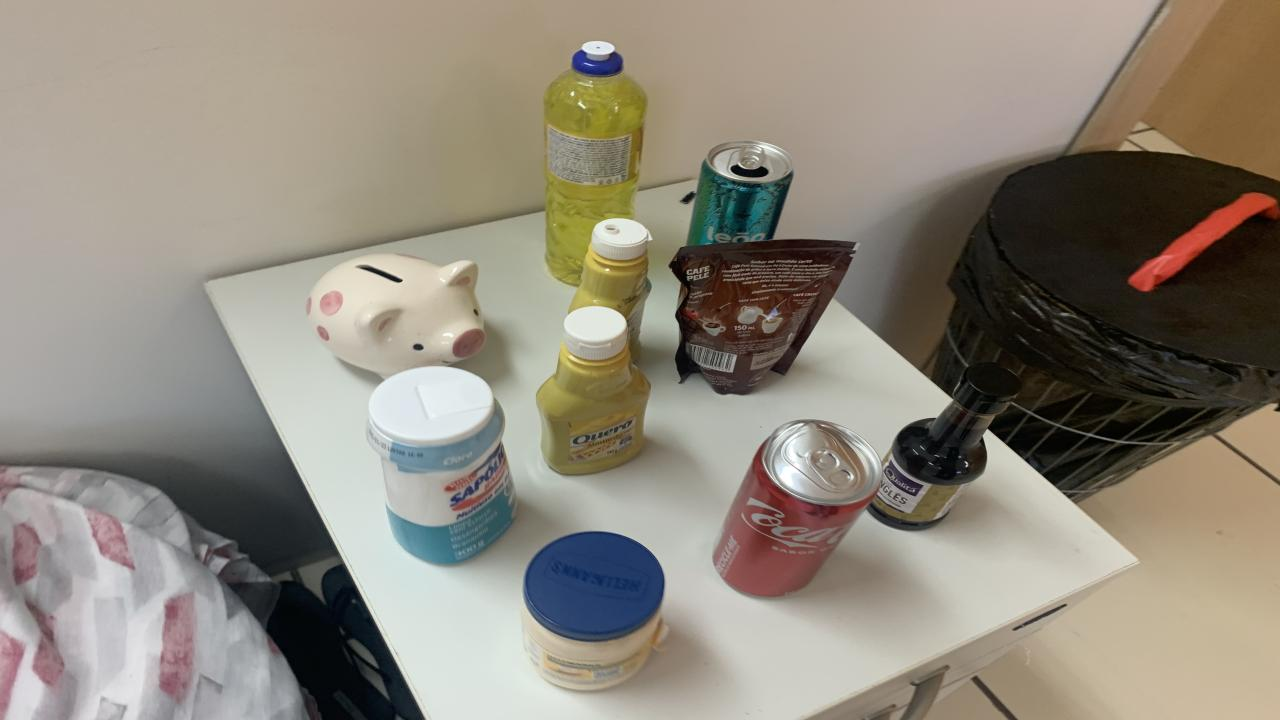Cleaner-Cleanup_Items: (365, 368, 518, 564)
Coffee-Pantry_Items: (670, 240, 858, 394)
Coke-Drinks: (712, 420, 880, 596)
Detergent-Cleanup_Items: (545, 41, 648, 285)
English_Sauce-Pantry_Items: (868, 362, 1020, 531)
Mayonnaise-Pantry_Items: (522, 531, 668, 690)
Mustard-Pantry_Items: (538, 306, 650, 474), (570, 218, 652, 362)
Pig_Safe-Miscellaneous: (305, 253, 485, 377)
Tea-Drinks: (688, 141, 792, 246)
